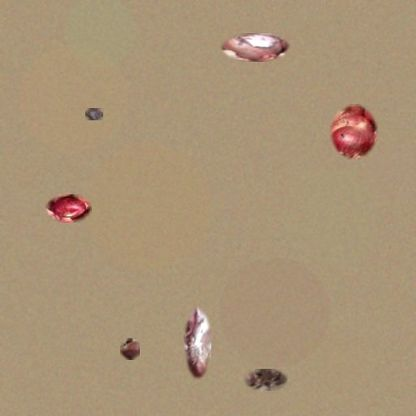damaged: (220, 33, 290, 62)
healthy: (330, 104, 378, 160), (46, 194, 92, 223)
rotten: (184, 306, 211, 380), (244, 369, 288, 391), (85, 108, 103, 120)
sprouted: (120, 338, 140, 360)
